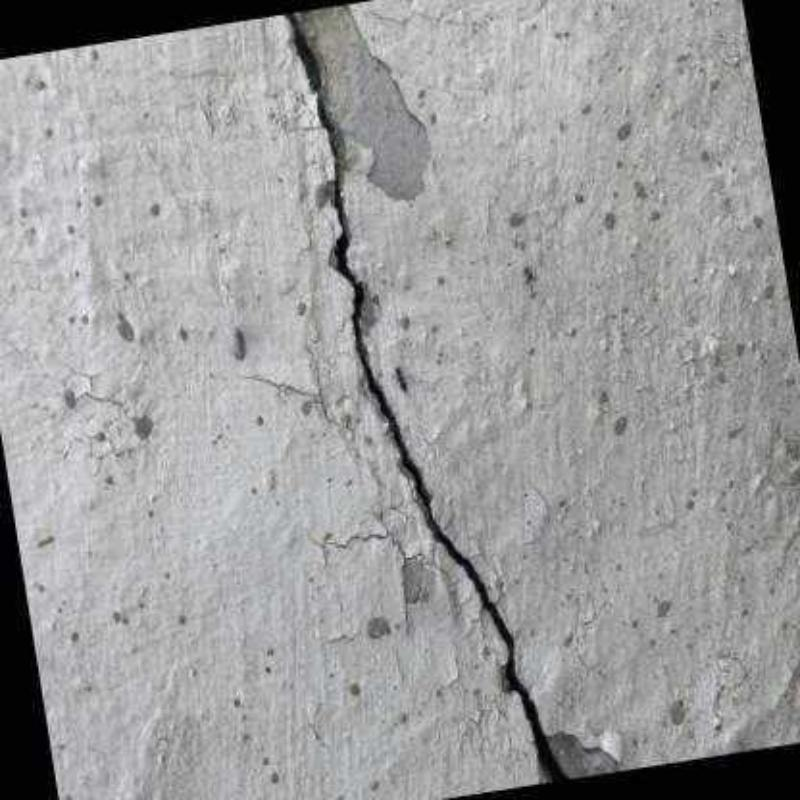pothole: (287, 13, 567, 781), (325, 515, 421, 623), (244, 365, 346, 427), (75, 375, 127, 413)
